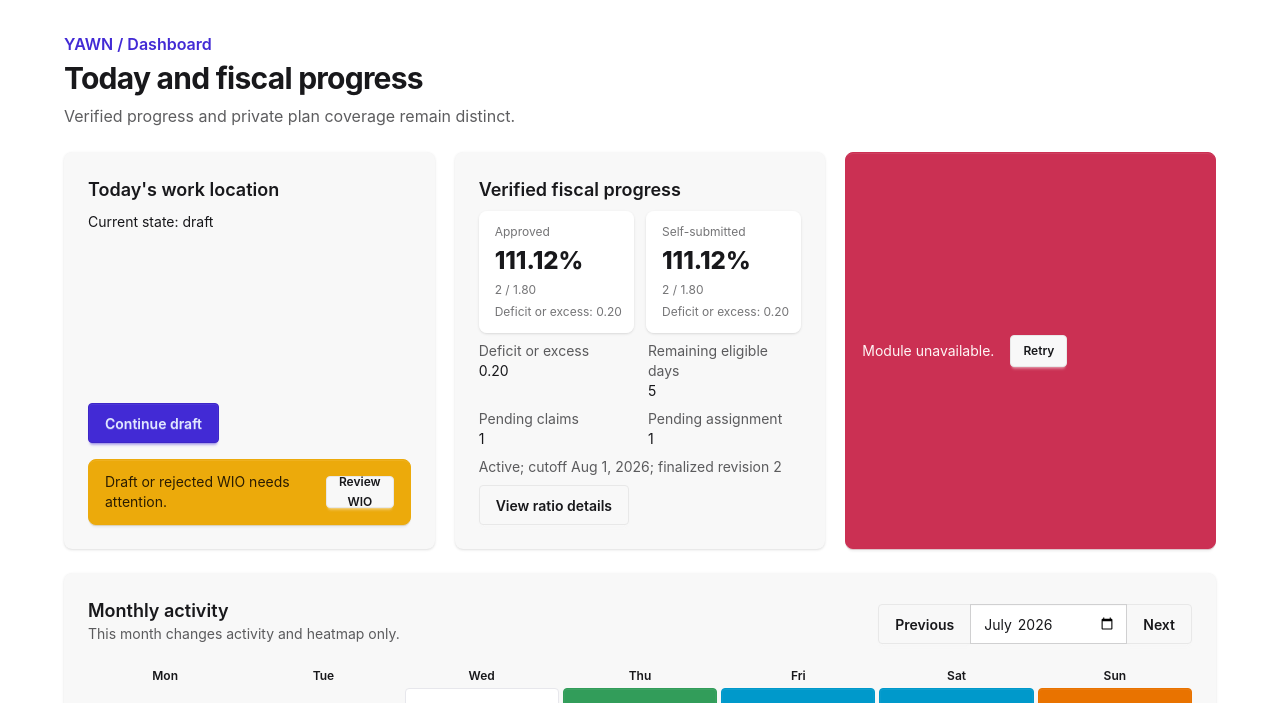
Test case: Phase 3 page contracts › keeps verified credit visible when dashboard plan coverage fails and retries locally
The width and height of the screenshot is (1280, 703).
Expected: the heading "Verified fiscal progress" is shown, [479,179,681,200]
Click the button "Retry". click: [1039, 350]
box: [1010,334,1067,366]
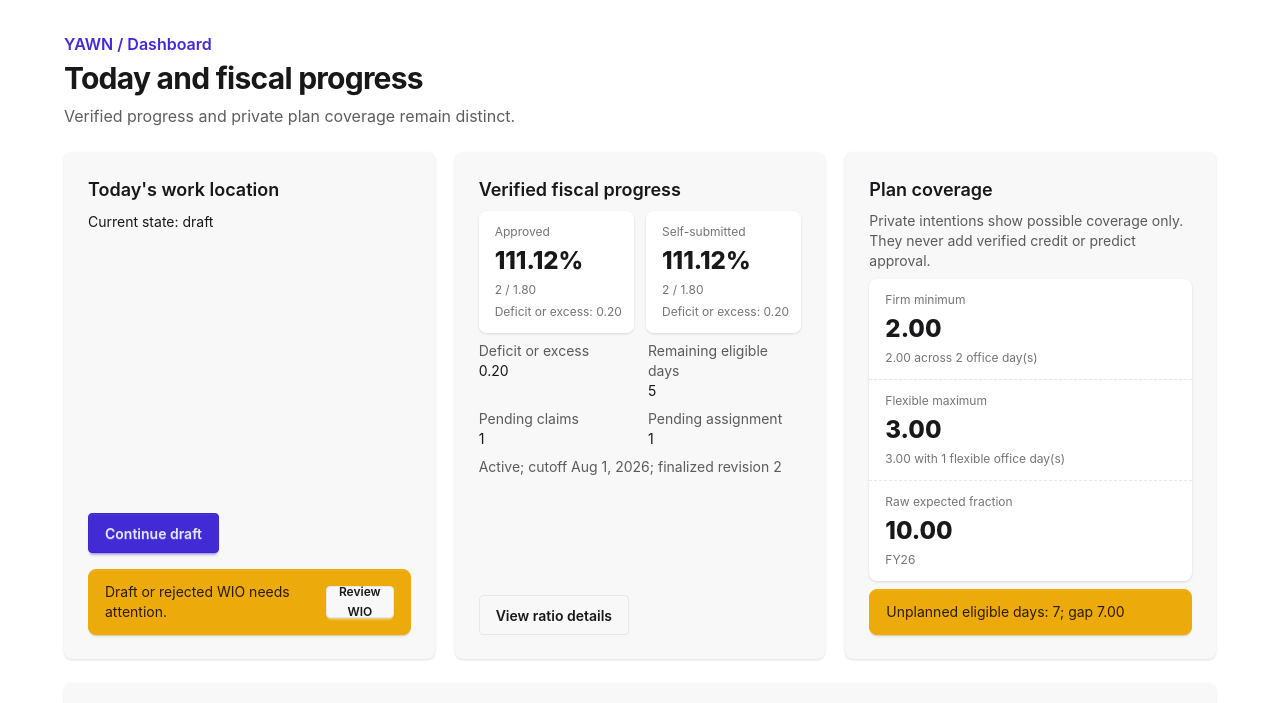
Expected: the heading "Plan coverage" is shown, [869,179,993,200]
